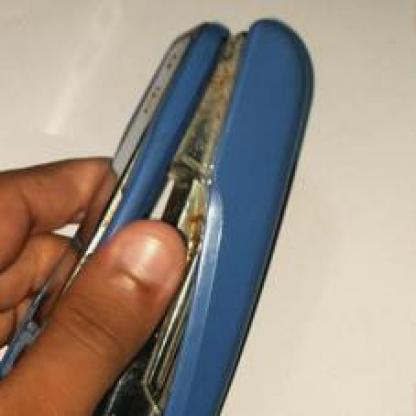stapler: (39, 13, 322, 412)
